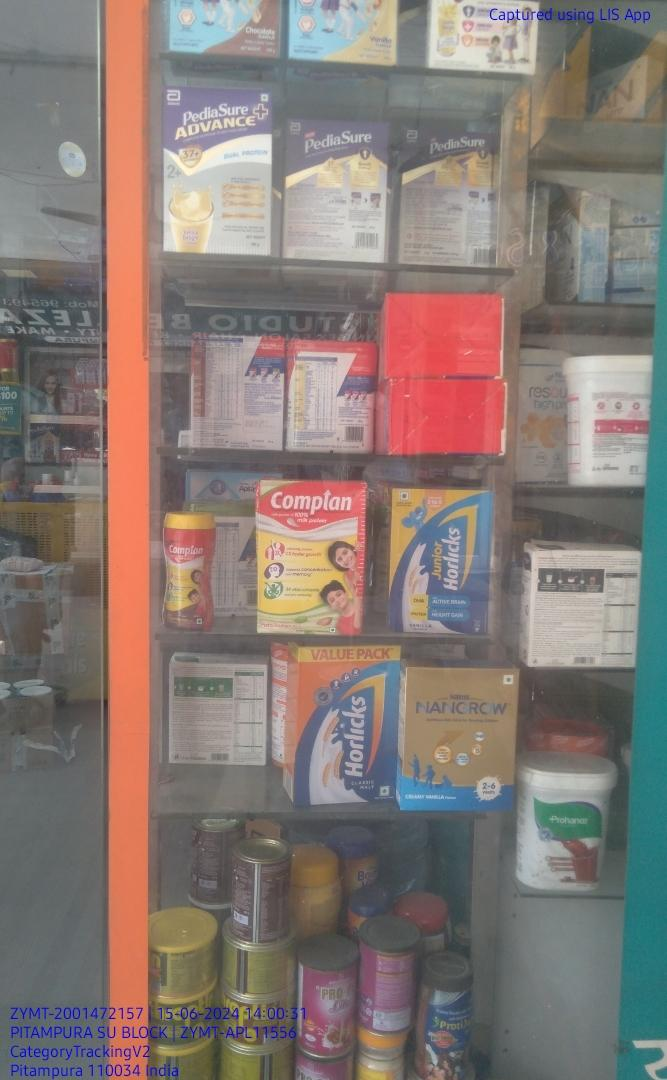COMPLAN_CHOCOLATE_500_GMS_JAR: (163, 511, 216, 630)
COMPLAN_KESAR_BADAM_500_GMS_PACK: (258, 481, 367, 634)
HORLICK_CLASSIC_MALT_500_G_PACK: (295, 645, 396, 803)
